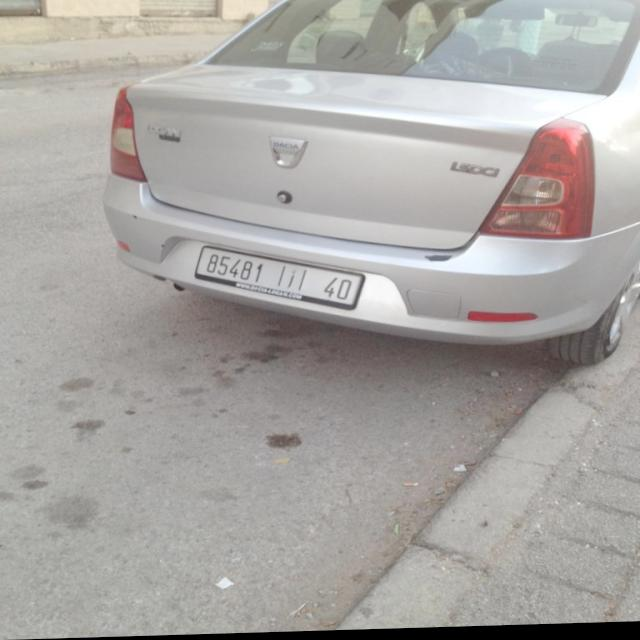License-Plate: (195, 248, 363, 312)
